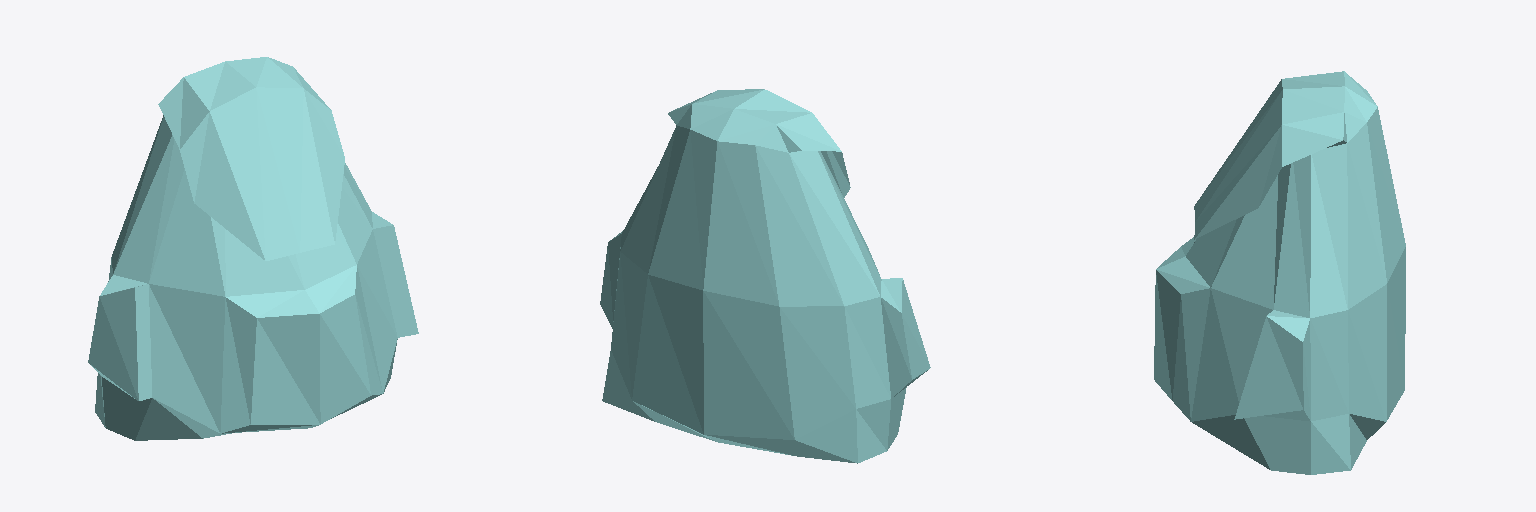
File: backpack_big.obj
3 views of the same model, side by side, from view 1: azimuth 30°, elevation 25°; view 2: azimuth 150°, elevation 25°; view 3: azimuth 270°, elevation 25° (orthographic).
Parts seen in each view (by area): view 1: Sphere02; view 2: Sphere02; view 3: Sphere02.
Boxes of the visible parts, <box> form: Sphere02: <box>88,57,418,440</box>; Sphere02: <box>600,89,930,463</box>; Sphere02: <box>1154,71,1405,474</box>.
Bounding box in the file's own units: 41.81 × 43.61 × 29.23.